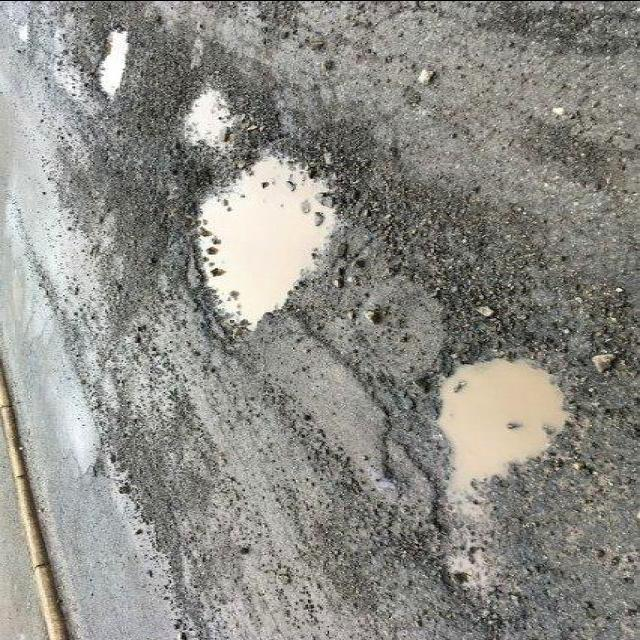jalan retak: (72, 374, 208, 638), (444, 3, 640, 62), (508, 110, 614, 198), (360, 388, 441, 502)
lubang: (184, 148, 358, 339), (400, 347, 584, 522), (284, 231, 452, 415), (388, 502, 516, 628), (170, 79, 246, 152), (80, 24, 138, 107)
